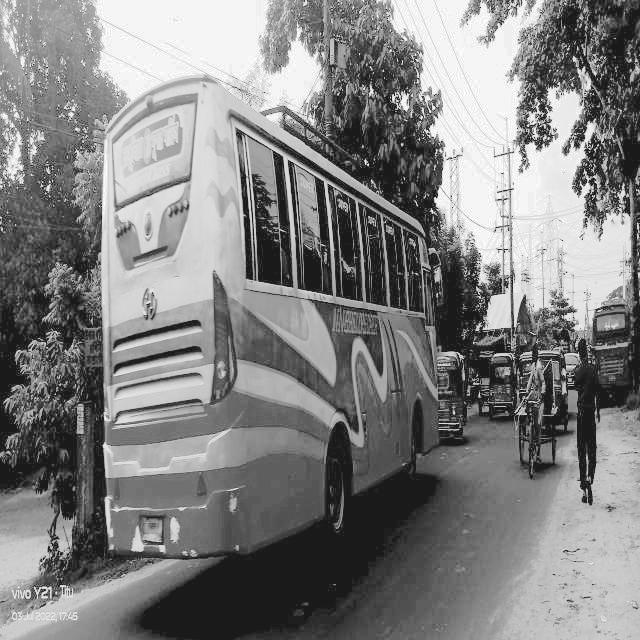Bus: (83, 46, 447, 560)
